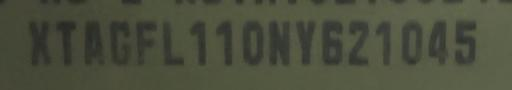letter: (20, 14, 56, 64), (343, 13, 375, 69), (422, 14, 452, 70), (450, 18, 482, 70), (104, 16, 136, 67), (263, 14, 293, 68), (235, 19, 267, 69), (292, 16, 322, 68), (396, 13, 424, 68), (78, 16, 108, 67), (186, 16, 216, 67), (370, 18, 400, 68), (158, 21, 190, 67), (318, 19, 348, 67), (132, 18, 160, 68), (214, 17, 238, 68), (55, 18, 81, 64)
